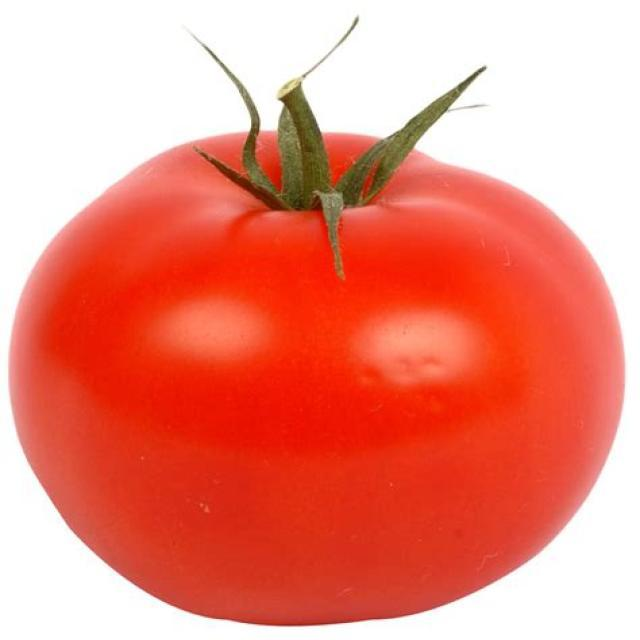Tomato: (6, 124, 628, 630)
